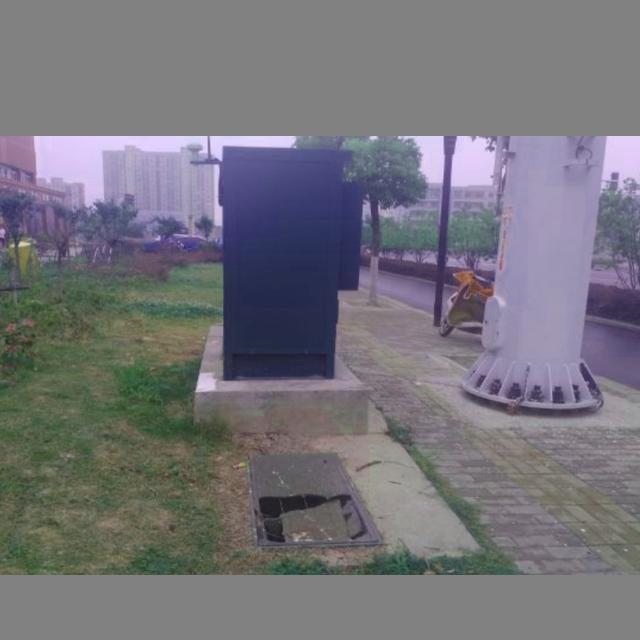broke: (247, 449, 386, 551)
